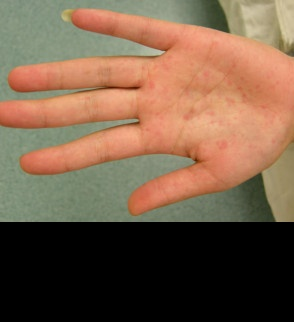SJS-TEN: (116, 15, 294, 186)
